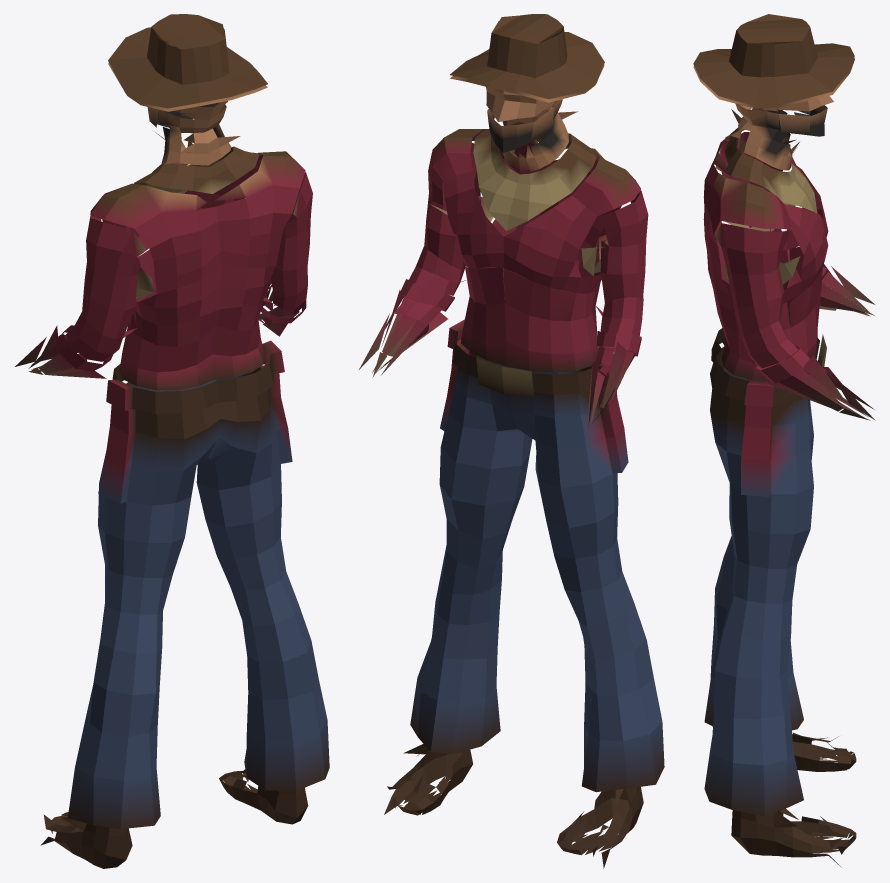
The model's file is man_5_idle.fbx.
3 views of the same model, side by side, from view 1: azimuth 30°, elevation 25°; view 2: azimuth 150°, elevation 25°; view 3: azimuth 270°, elevation 25° (orthographic). The views are drawn at different scales.
Visible parts, largest first — view 1: cowboy; view 2: cowboy; view 3: cowboy.
Boxes of the visible parts, bbox=[...] form: cowboy: bbox=[15, 14, 329, 868]; cowboy: bbox=[359, 14, 664, 868]; cowboy: bbox=[693, 14, 875, 867].
Size of the model in its own units: 0.328 by 1.01 by 0.212.
